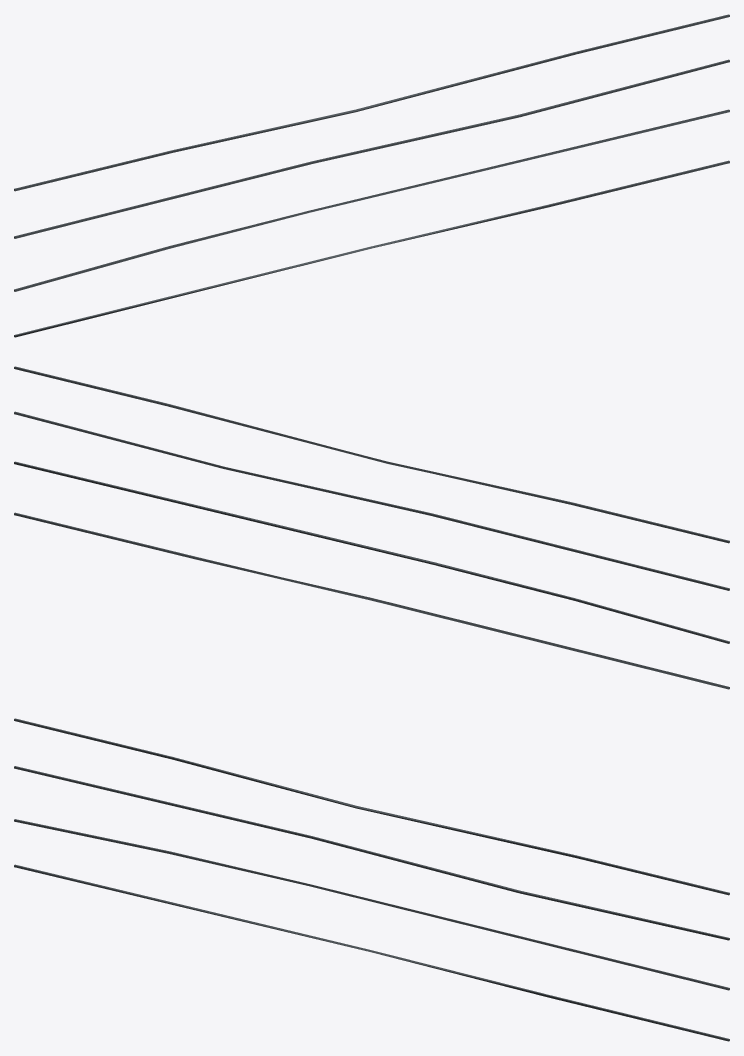
Rendered from SM_Prop_Fence_Wire_03.glb.
The picture shows the model from 3 angles, top to bottom: view 1: azimuth 30°, elevation 25°; view 2: azimuth 150°, elevation 25°; view 3: azimuth 330°, elevation 25°; orthographic projection.
Parts seen in each view (by area): view 1: SM_Prop_Fence_Wire_03; view 2: SM_Prop_Fence_Wire_03; view 3: SM_Prop_Fence_Wire_03.
Part boxes in pixels (x1,y1,x2,y2): SM_Prop_Fence_Wire_03: (14,14,729,337); SM_Prop_Fence_Wire_03: (14,366,729,689); SM_Prop_Fence_Wire_03: (14,718,729,1041).
Bounding box in the file's own units: 5 × 0.9891 × 0.017.
1 material, 1 textured.
